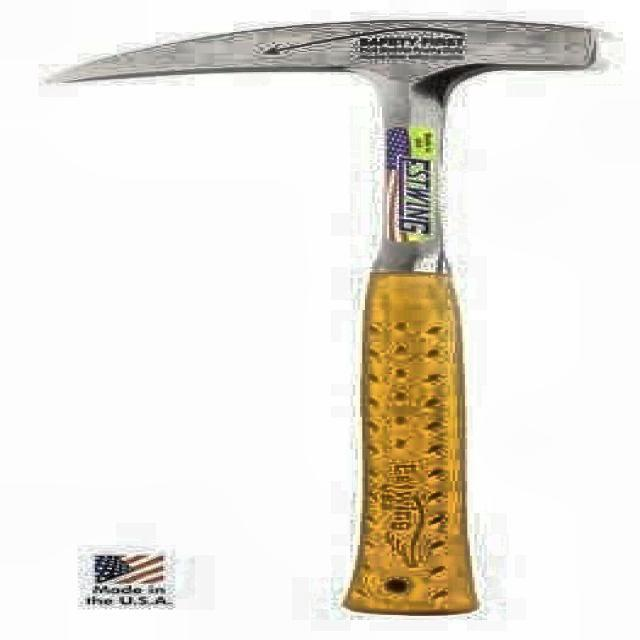hammer: (48, 18, 610, 617)
